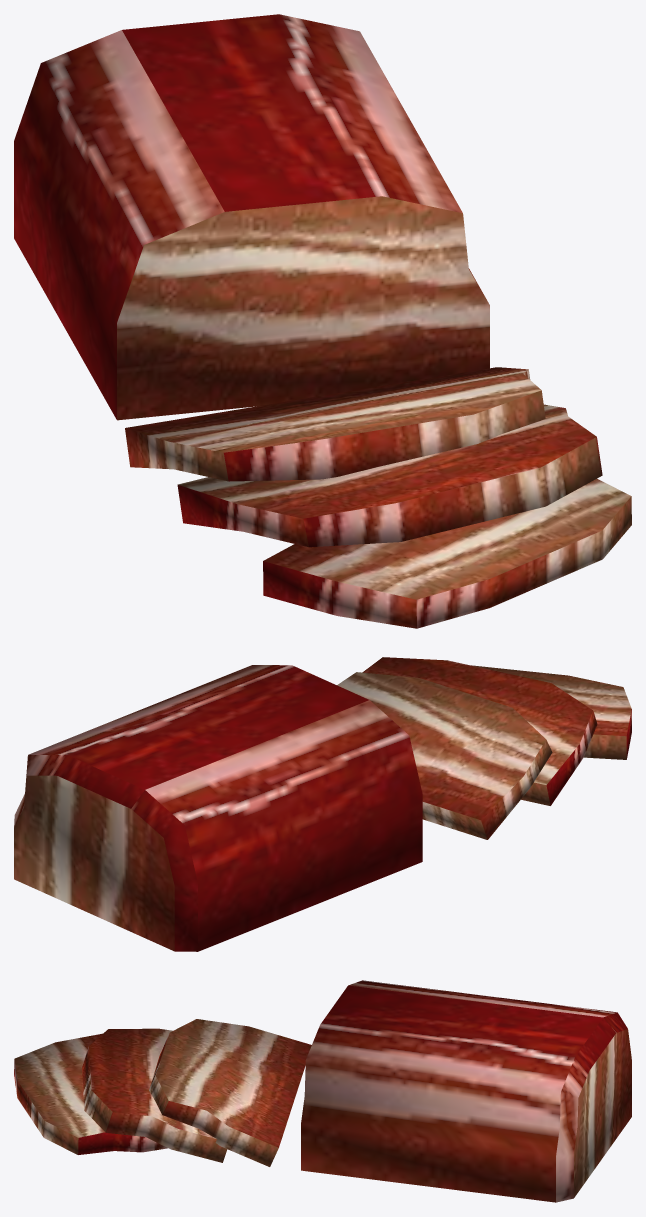
Rendered from KM_RAWBEEF.glb.
3 views of the same model, one above another, from view 1: azimuth 30°, elevation 25°; view 2: azimuth 150°, elevation 25°; view 3: azimuth 270°, elevation 25° (orthographic). The views are drawn at different scales.
Visible parts, largest first — view 1: Mesh; view 2: Mesh; view 3: Mesh.
Part boxes in pixels (x1,y1,x2,y2): Mesh: (14, 14, 631, 628); Mesh: (14, 657, 631, 951); Mesh: (14, 980, 631, 1202).
Bounding box in the file's own units: 0.3046 × 0.116 × 0.5424.
1 material, 1 textured.
